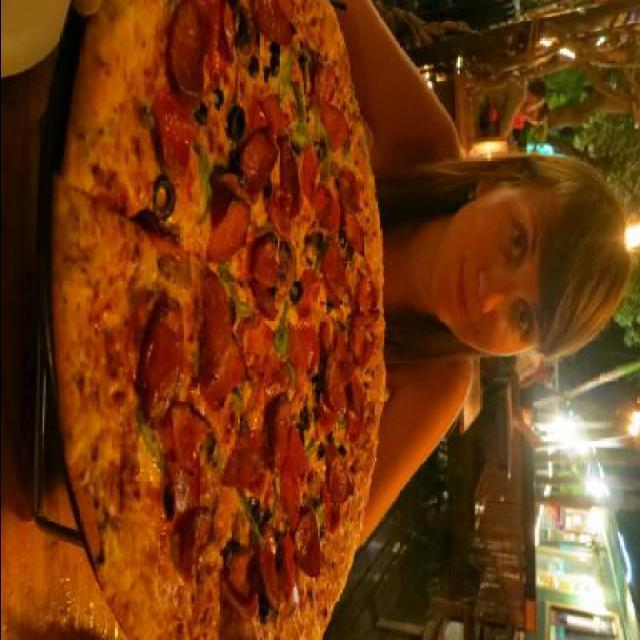Pizza: (30, 0, 371, 638)
